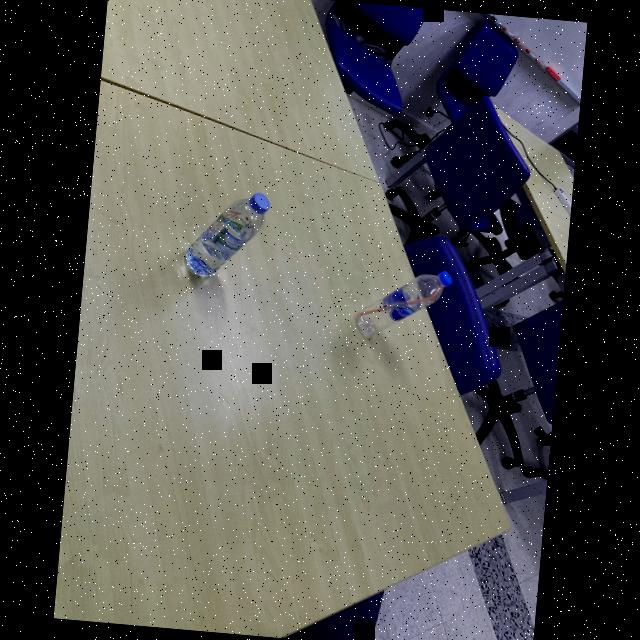plastic_bottle: (181, 185, 271, 282), (352, 262, 453, 348)
plastic_bottle_cap: (247, 190, 271, 214), (437, 269, 453, 288)
straw: (356, 276, 446, 324)
